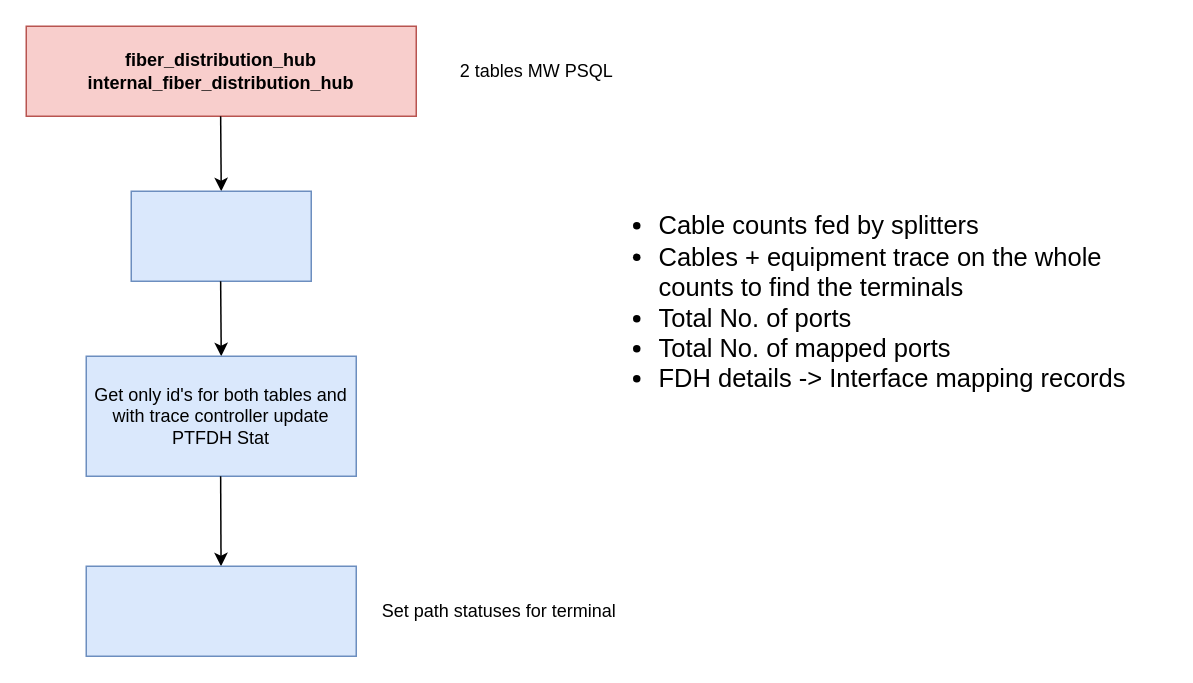
The diagram is 1193 pixels wide and 683 high, and some of its shapes have lost their labels. Each missing label, with the centre of its shape:
Get Terminal fed from FDH: the point at 220,610
Run ETL for both: the point at 220,235
